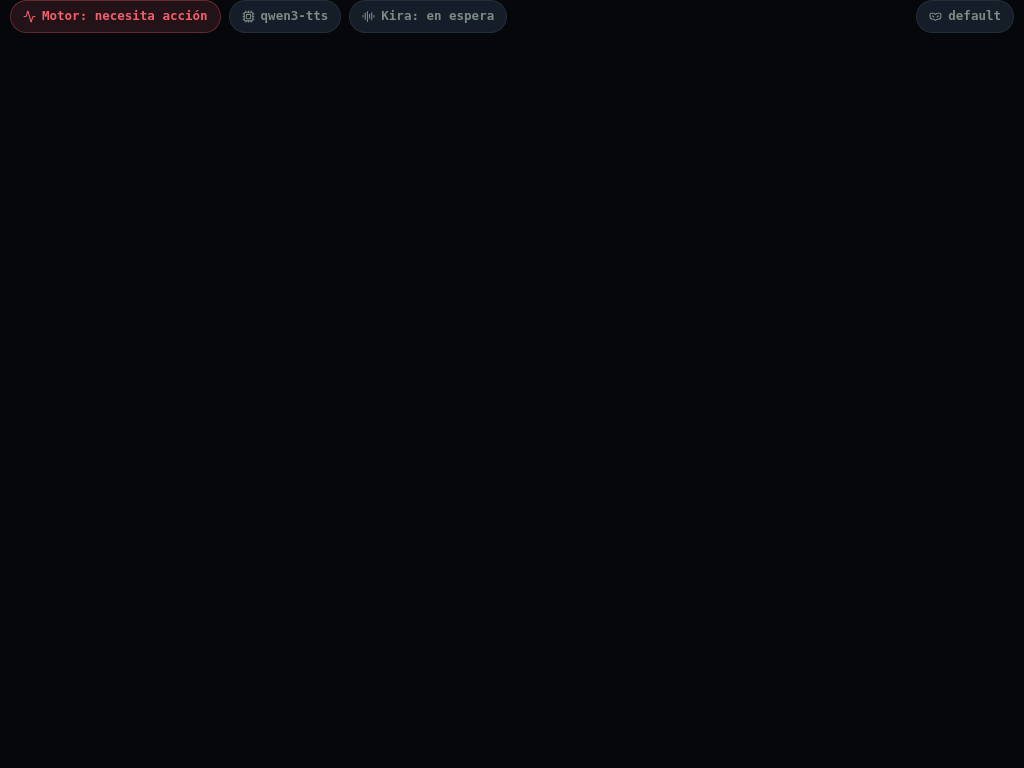
Test case: StatusRail — adjust round 2 (owner runtime feedback, 2026-07-15) › names 'voz (Qwen)' in the red why-copy when qwen_status is 'unknown' — never empty parens
What coordinates should you click on to do the following:
click the button "Motor: necesita acción"
I would click on:
 (115, 16)
Its box is [10, 0, 221, 33].
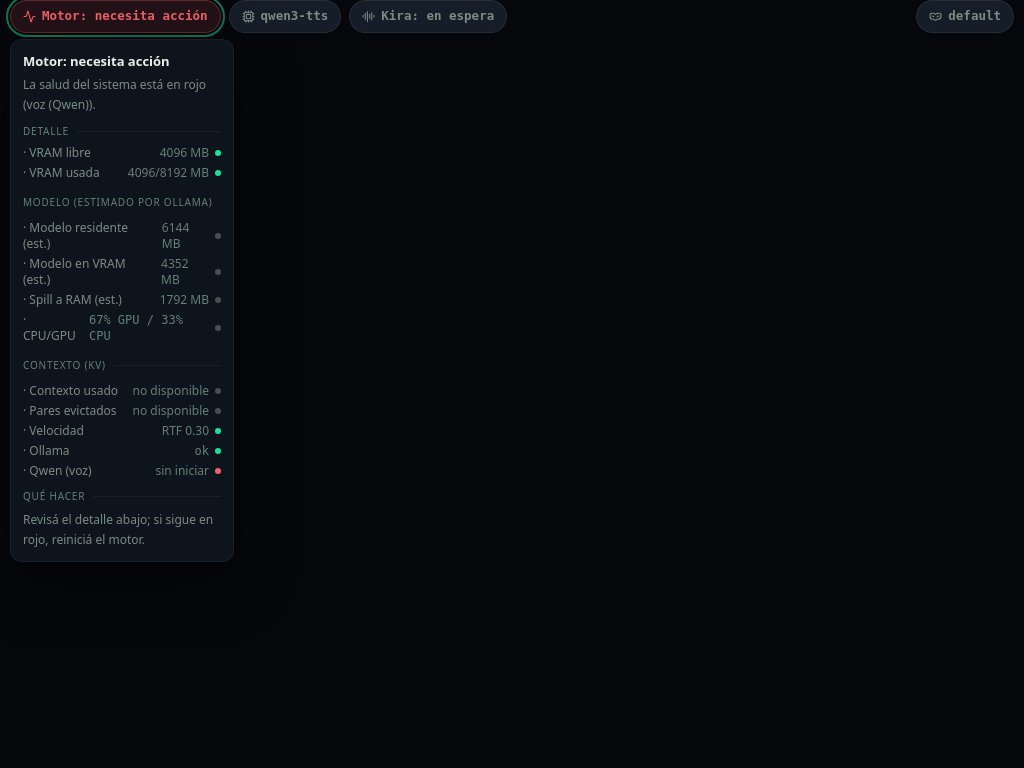
Expected: the dialog "Motor: necesita acción" does not show "()", [10, 39, 234, 562]
Result: the dialog "Motor: necesita acción" shows "La salud del sistema está en rojo (voz (Qwen))" at [23, 76, 206, 113]
Result: the dialog "Motor: necesita acción" shows "sin iniciar" at [156, 462, 209, 479]
